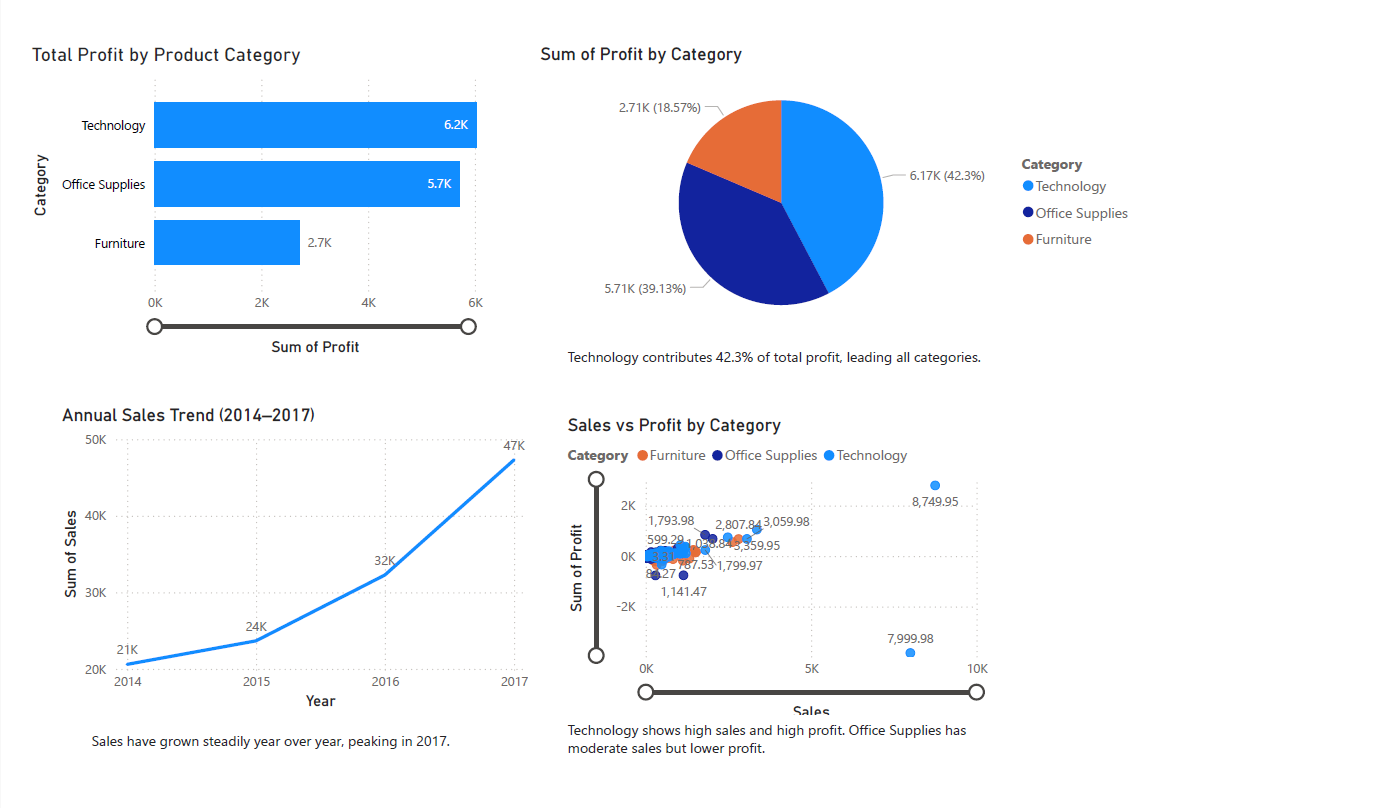

What the dashboard file says about the page in this screenshot:
{"tool":"powerbi","page":{"name":"Page 1","canvas":[1280,720],"ordinal":0},"visuals":[{"type":"clusteredBarChart","title":"Total Profit by Product Category","fields":{"Category":["Sample - Superstore.Category"],"Y":["Sum(Sample - Superstore.Profit)"]},"box":[0,17.1,439,300.8],"z":0},{"type":"pieChart","fields":{"Category":["Sample - Superstore.Category"],"Y":["Sum(Sample - Superstore.Profit)"]},"box":[483,17.1,577.2,283.7],"z":1},{"type":"lineChart","title":"Annual Sales Trend (2014–2017)","fields":{"Y":["Sum(Sample - Superstore.Sales)"],"Category":["Sample - Superstore.Order_Date.Variation.Date Hierarchy.Year","Sample - Superstore.Order_Date.Variation.Date Hierarchy.Month"]},"box":[29.3,359.5,451.2,295.9],"z":2},{"type":"scatterChart","title":"Sales vs Profit by Category","fields":{"Y":["Sum(Sample - Superstore.Profit)"],"Series":["Sample - Superstore.Category"],"X":["Sample - Superstore.Sales"]},"box":[508.7,369.3,408.4,295.9],"z":3},{"type":"textbox","box":[508.7,300.8,524.6,48.9],"z":5},{"type":"textbox","box":[508.7,655.4,408.4,46.5],"z":6},{"type":"textbox","box":[57.5,665.2,423.1,55],"z":7}]}

Visuals, with their boxes on the page's 1280x720 design canvas (x1, y1, x2, y2). These are canvas units, not pixel positions in the 1393x808 screenshot, which may show the page scaled, cropped or inside an application window:
"Total Profit by Product Category" clusteredBarChart: 0/17/439/318
pieChart - Sample - Superstore.Category x Sum(Sample - Superstore.Profit): 483/17/1060/301
"Annual Sales Trend (2014–2017)" lineChart: 29/360/480/655
"Sales vs Profit by Category" scatterChart: 509/369/917/665
textbox: 509/301/1033/350
textbox: 509/655/917/702
textbox: 58/665/481/720
